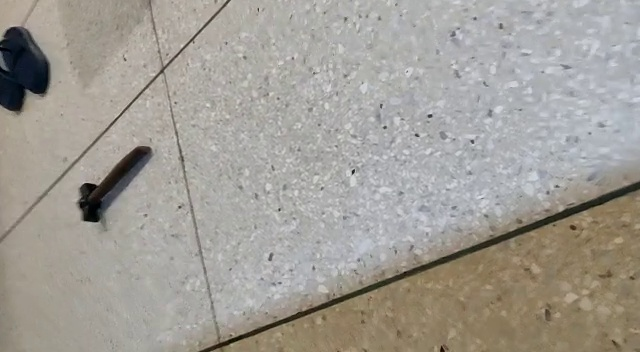hammer: (76, 145, 152, 224)
